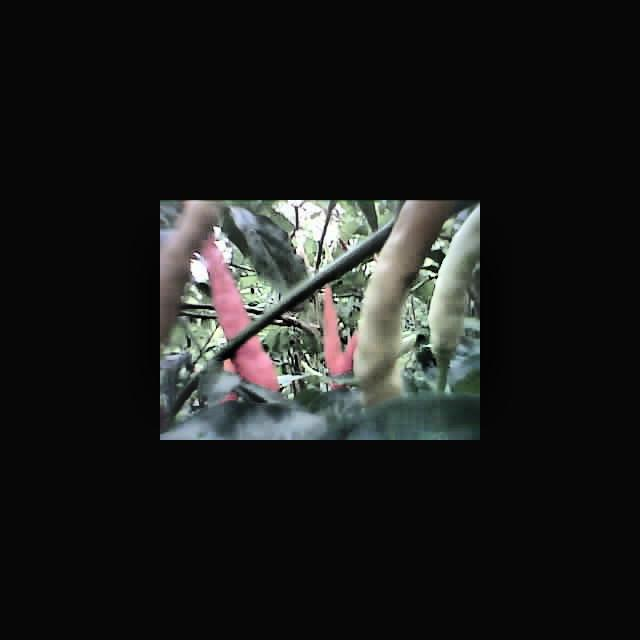Cabai: (205, 251, 282, 399), (324, 285, 350, 379)
